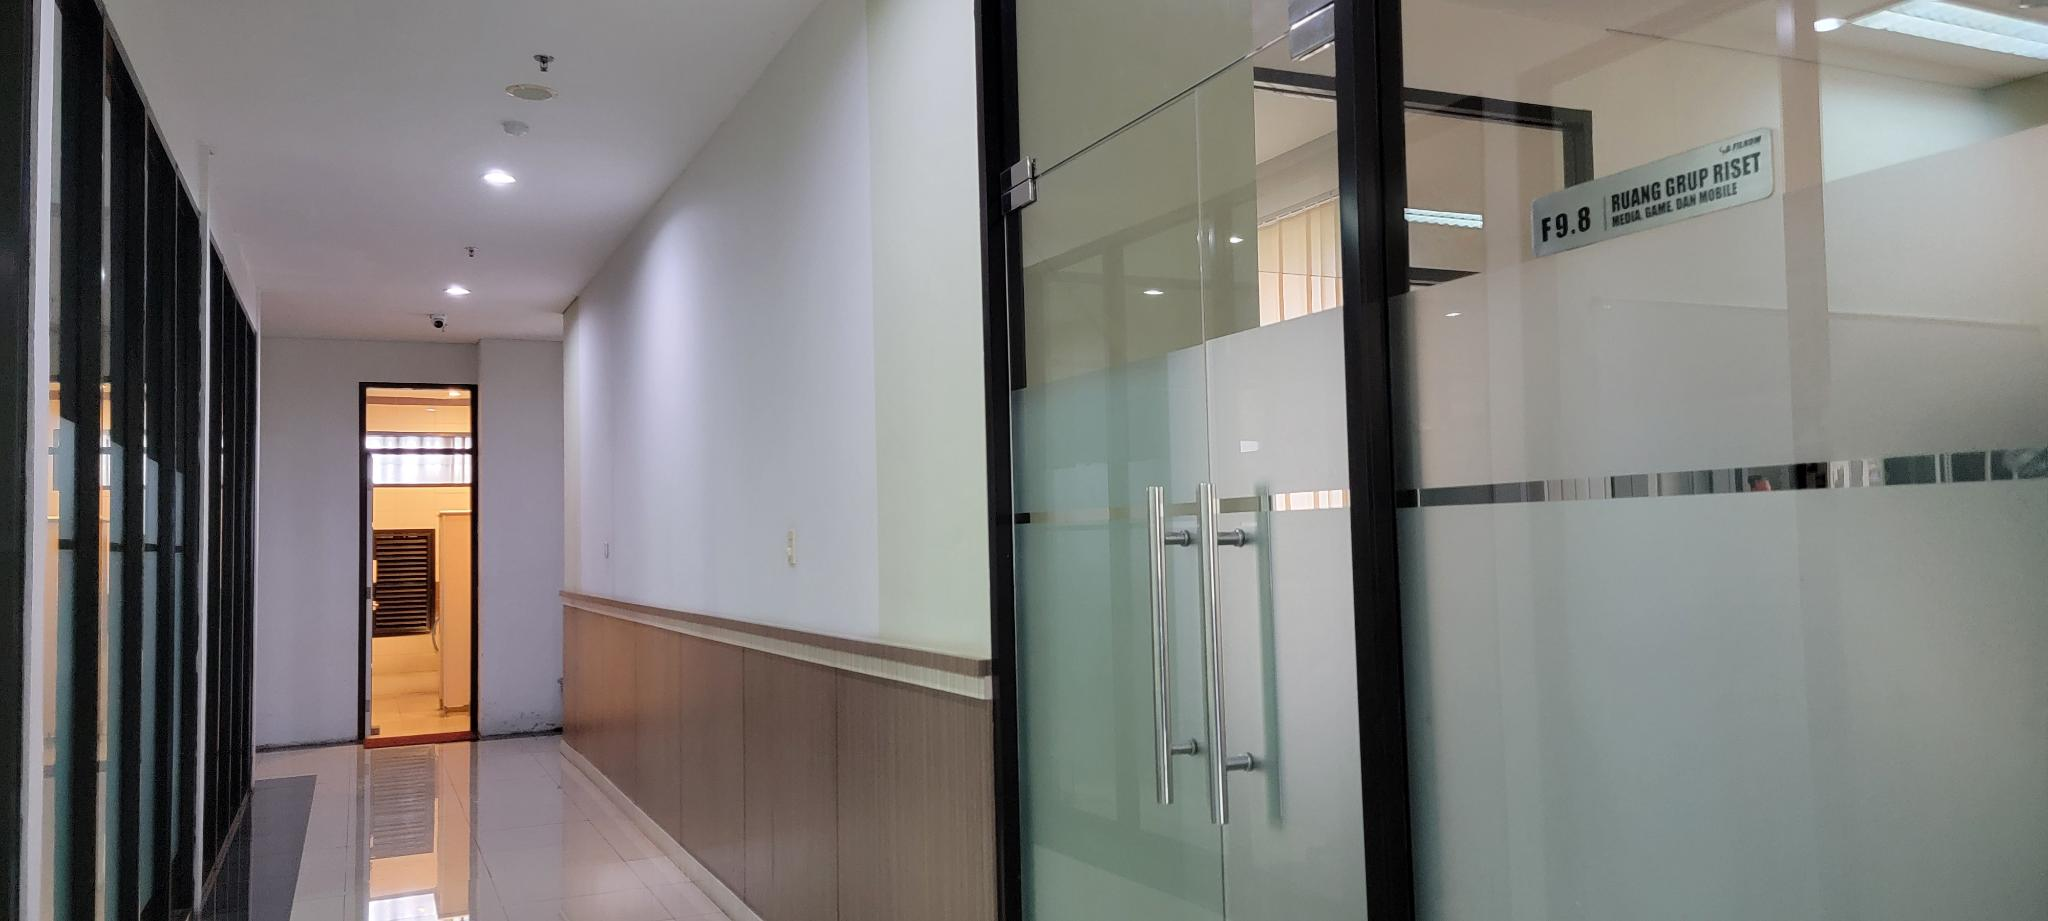plate: (1529, 129, 1776, 260)
